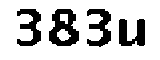3: (13, 7, 47, 53), (83, 9, 114, 52)
8: (47, 8, 81, 52)
u: (116, 15, 151, 51)
